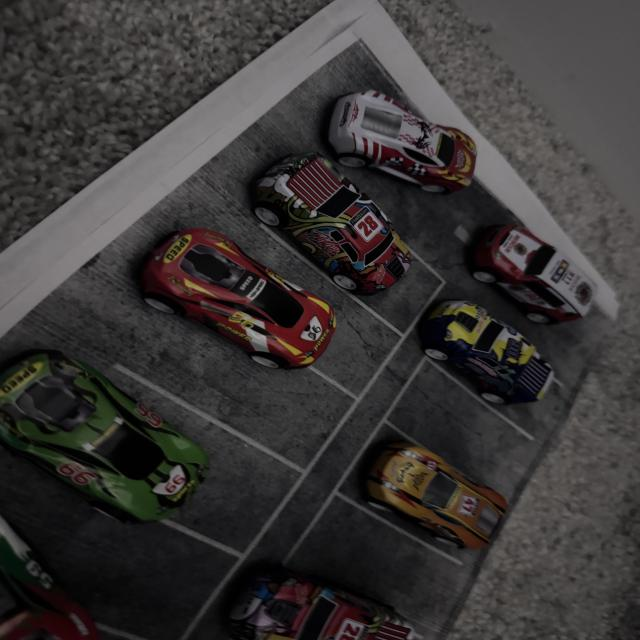car: (91, 196, 328, 362), (0, 354, 286, 487), (235, 145, 448, 307), (328, 428, 576, 556), (458, 212, 640, 368), (414, 276, 580, 414), (161, 556, 417, 640), (326, 84, 480, 168)
